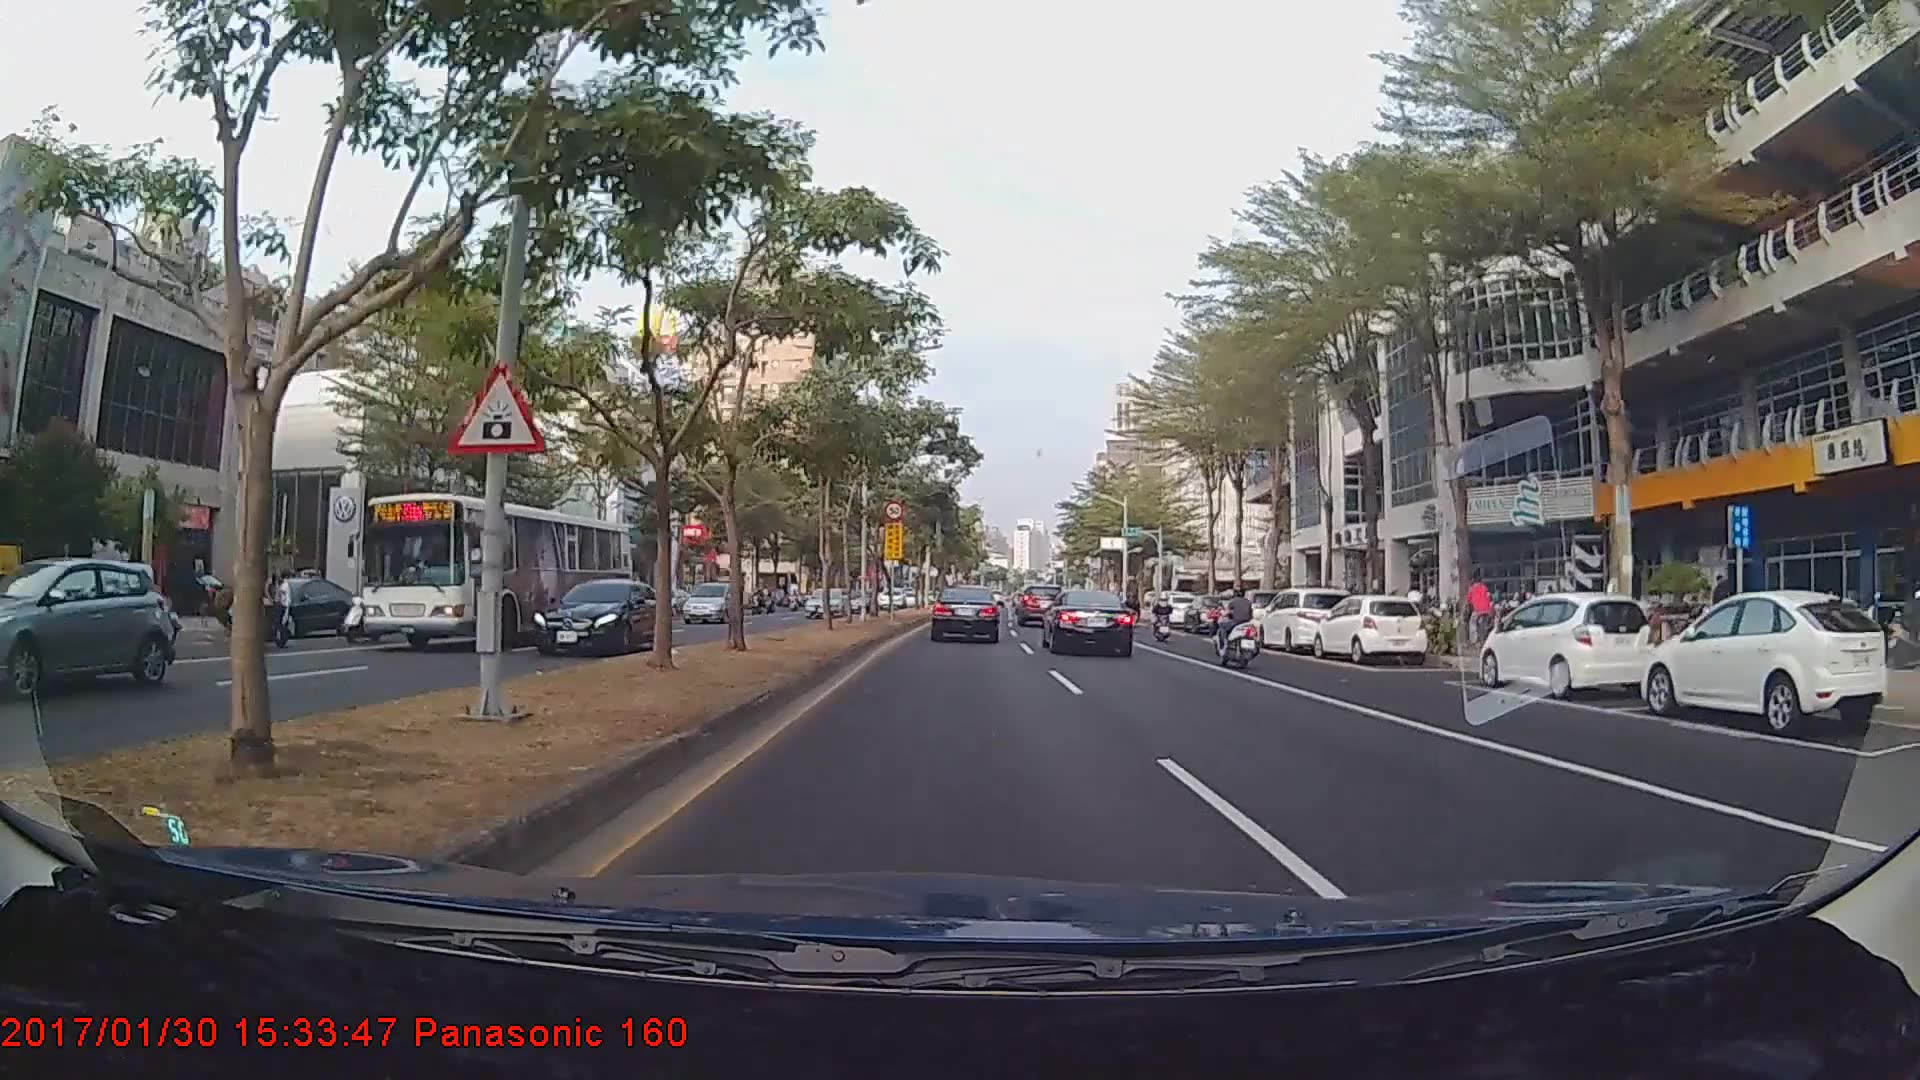rider: (1212, 582, 1267, 675), (1211, 587, 1259, 657), (1151, 586, 1179, 643)
vehicle: (355, 489, 633, 651), (1639, 586, 1891, 734), (0, 558, 167, 694), (1479, 590, 1657, 702), (529, 573, 669, 656), (225, 576, 362, 639), (1313, 594, 1425, 665), (1255, 586, 1357, 651), (1042, 587, 1136, 657), (929, 583, 1002, 643), (679, 578, 742, 622), (1015, 580, 1067, 625), (801, 584, 851, 617)
